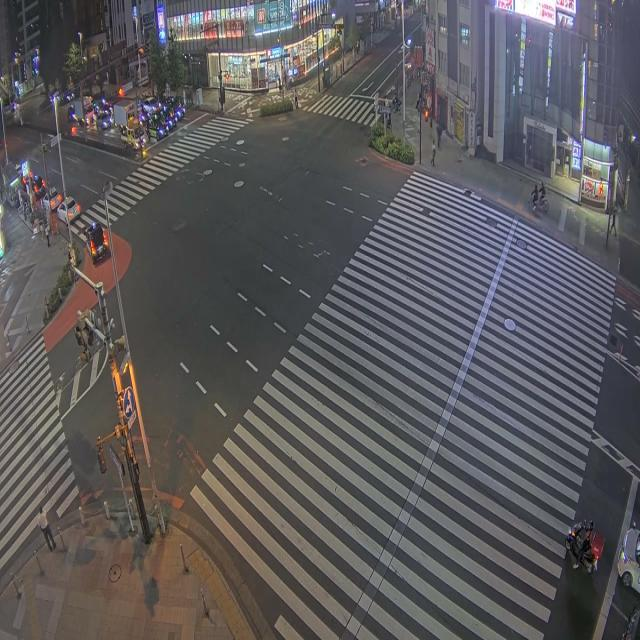car: (617, 523, 639, 591), (85, 223, 108, 263), (622, 604, 639, 639), (57, 197, 80, 222), (146, 114, 166, 139), (42, 187, 62, 211), (30, 172, 46, 200), (166, 96, 185, 119), (160, 104, 177, 129), (155, 110, 171, 133), (96, 112, 114, 129), (142, 98, 158, 113)
motorcycle: (565, 522, 603, 574)
truck: (114, 100, 145, 150), (72, 97, 94, 124), (114, 100, 135, 127)
